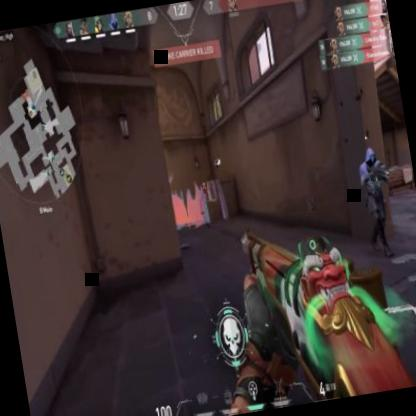enemy: (200, 182, 212, 216)
enemy_head: (202, 182, 206, 188)
